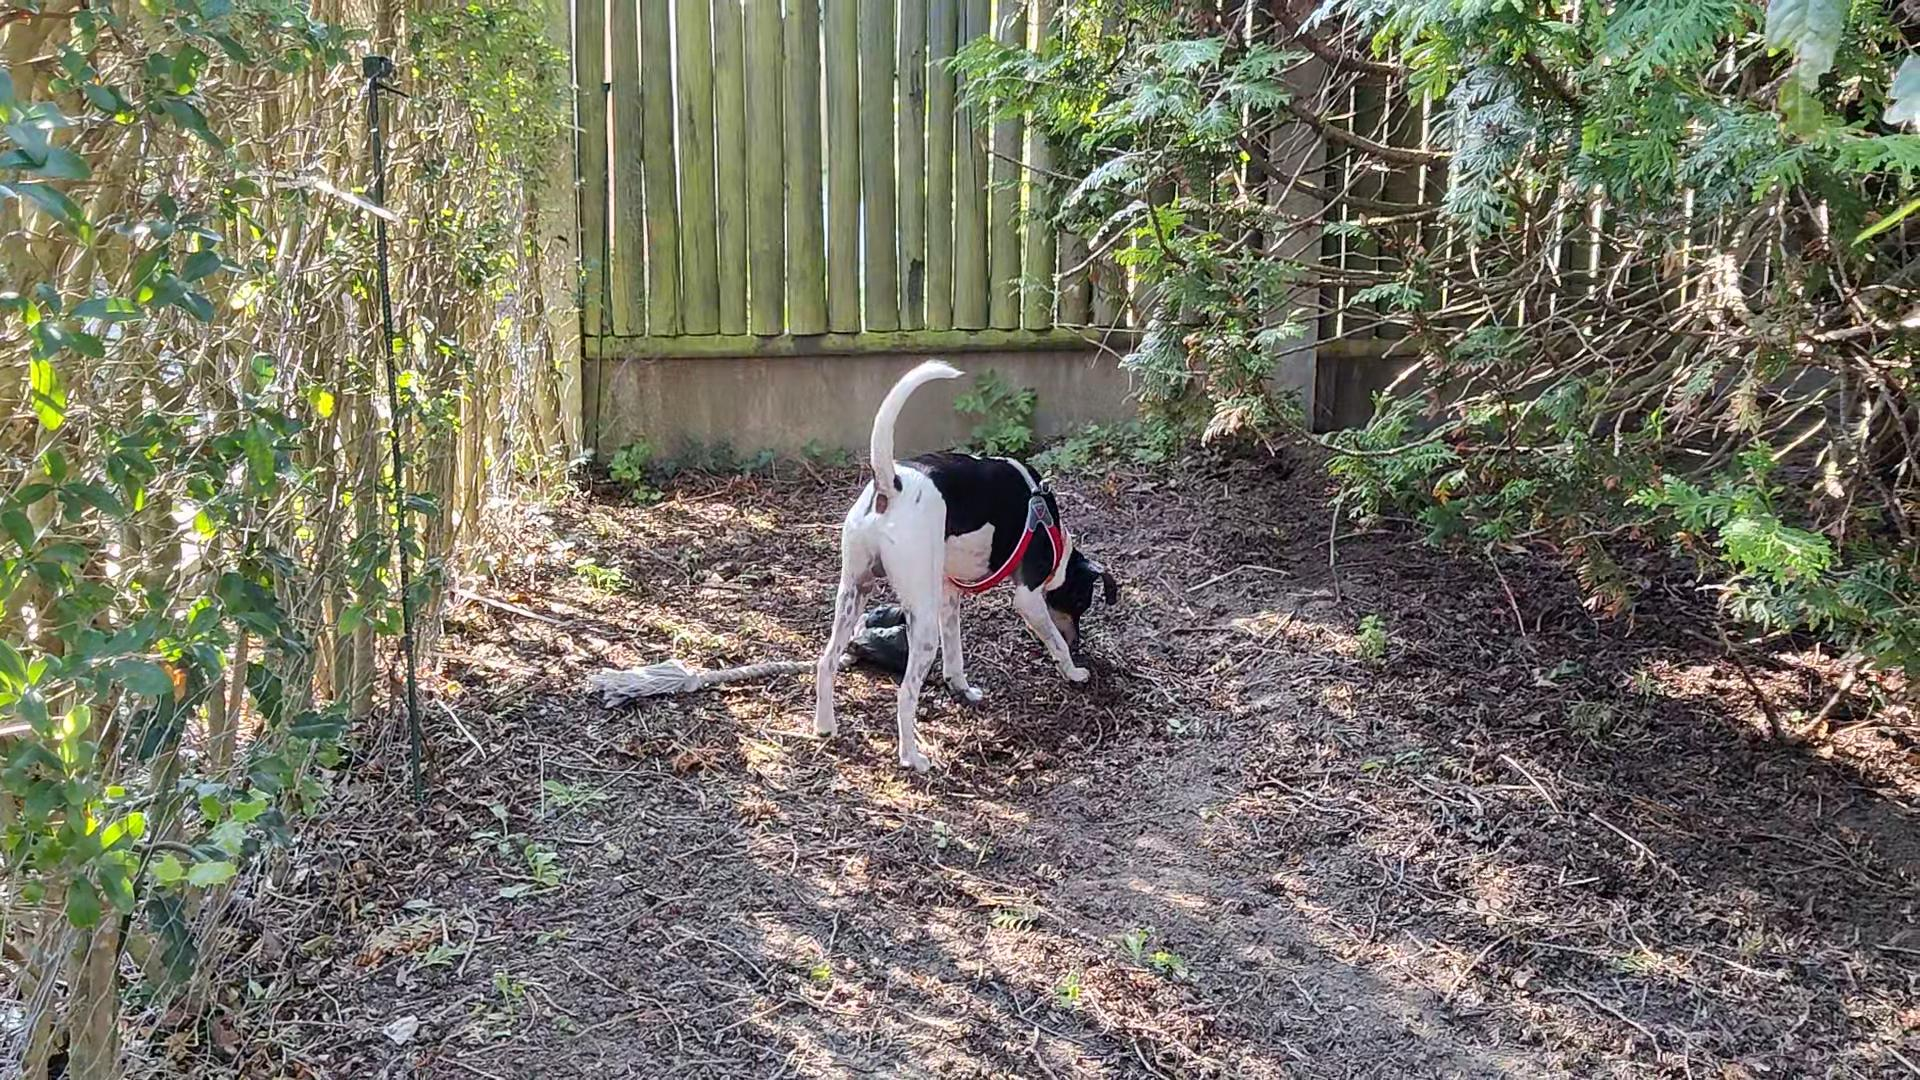Dog: (789, 348, 1130, 778)
